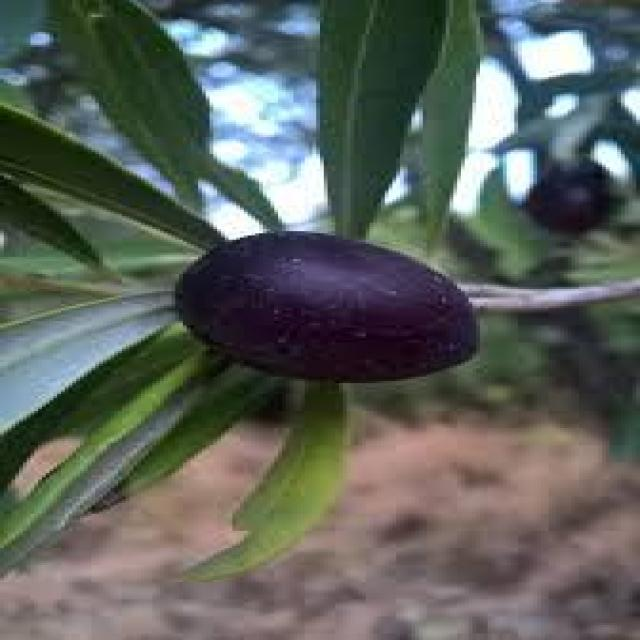Healthy: (175, 231, 472, 385)
